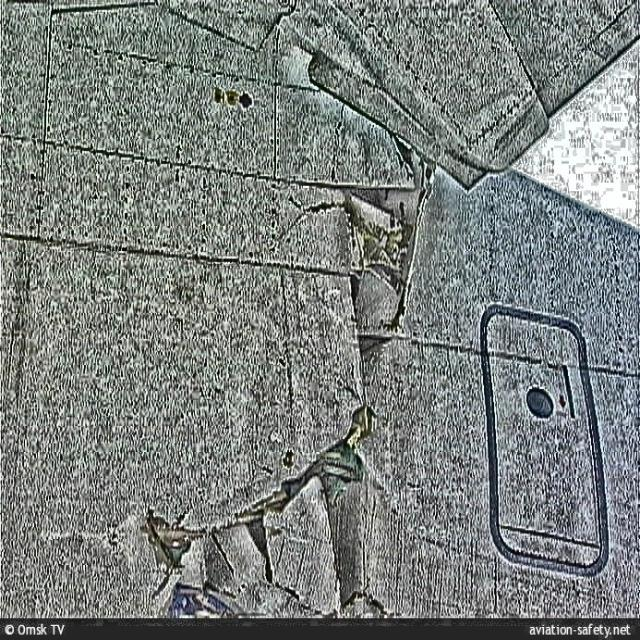crack: (138, 136, 437, 596)
